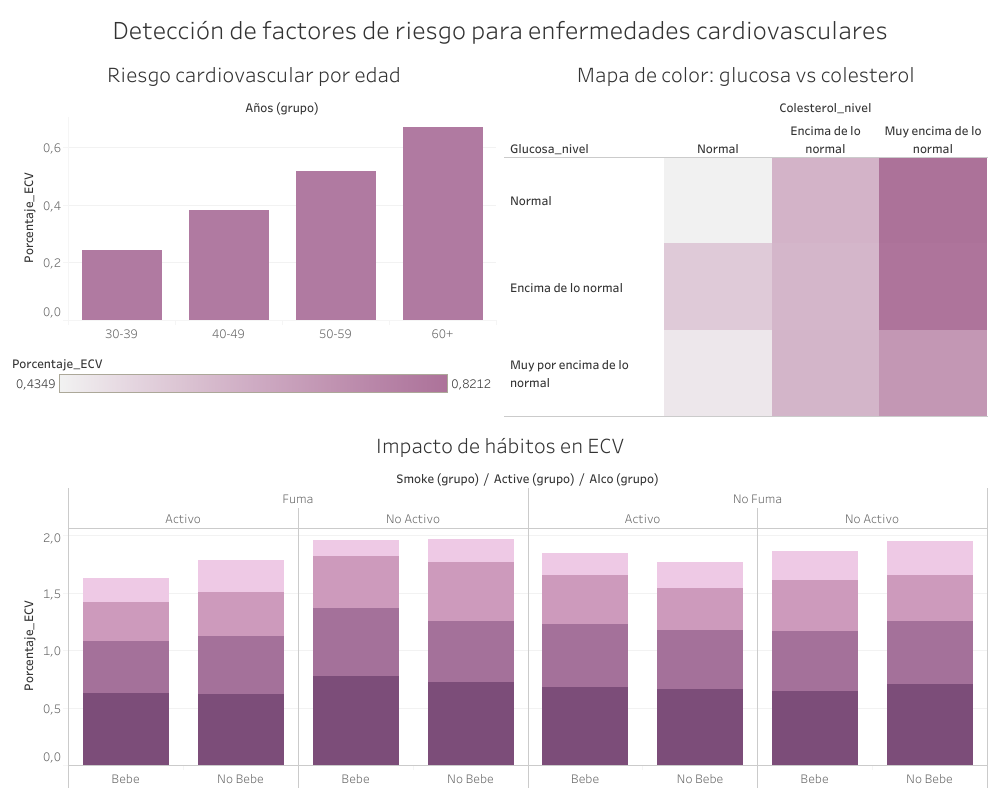

What the dashboard file says about the page in this screenshot:
{"tool":"tableau","page":{"name":"Detección de factores de riesgo para enfermedades cardiovasculares","canvas":[1000,800],"ordinal":0},"visuals":[{"type":"title","box":[8,8,984,42]},{"type":"worksheet","title":"Riesgo cardiovascular por edad","mark":"Bar","rows":["Calculation_1055548864451091"],"box":[8,50,492,296]},{"type":"worksheet","title":"Mapa de color: glucosa vs colesterol","mark":"Square","box":[500,50,492,371]},{"type":"legend","title":"Mapa de color: glucosa vs colesterol","param":"[federated.00q1fy61azqebm1cgqohe1udmf36].[usr:Calculation_1055548864451091:qk]","box":[8,346,492,75]},{"type":"worksheet","title":"Impacto de hábitos en ECV","mark":"Bar","rows":["Calculation_1055548864451091"],"box":[8,421,984,371]}]}

Visuals, with their boxes in screenshot pixels (x1, y1, x2, y2), scaled from the page's 1000x800 canvas onto the 999x799 screenshot:
title: (x1=8, y1=8, x2=991, y2=50)
"Riesgo cardiovascular por edad" worksheet (Bar marks): (x1=8, y1=50, x2=500, y2=346)
"Mapa de color: glucosa vs colesterol" worksheet (Square marks): (x1=500, y1=50, x2=991, y2=420)
"Mapa de color: glucosa vs colesterol" legend: (x1=8, y1=346, x2=500, y2=420)
"Impacto de hábitos en ECV" worksheet (Bar marks): (x1=8, y1=420, x2=991, y2=791)
